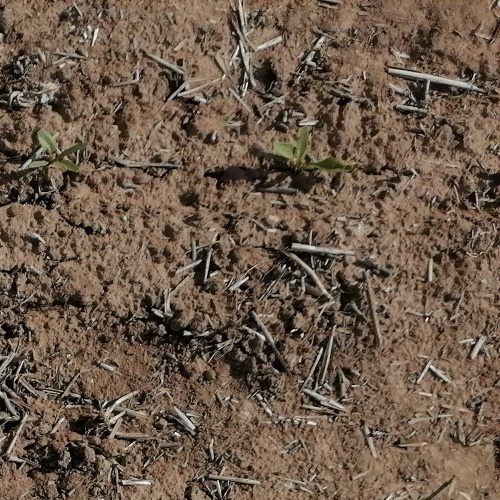beet: (272, 131, 353, 173), (32, 128, 87, 174)
